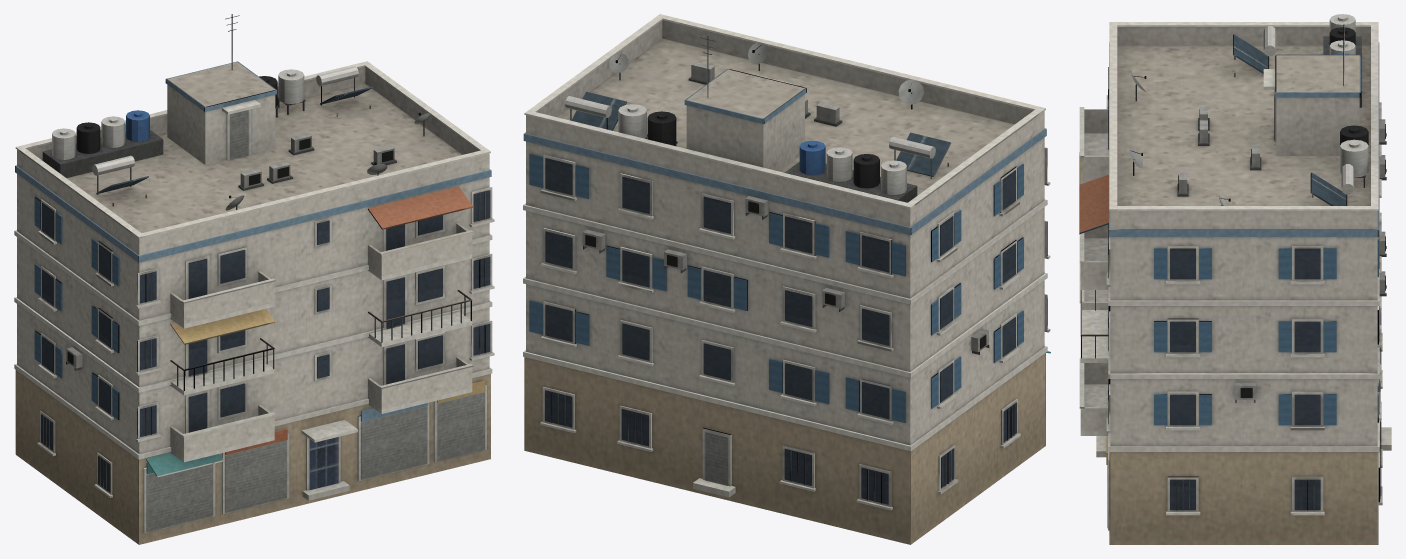
The model's file is civ_apartment.glb.
The picture shows the model from 3 angles, left to right: view 1: azimuth 30°, elevation 25°; view 2: azimuth 150°, elevation 25°; view 3: azimuth 270°, elevation 25°; orthographic projection. The views are drawn at different scales.
Visible parts, largest first — view 1: civ_apartment; view 2: civ_apartment; view 3: civ_apartment.
Boxes of the visible parts, <box> form: civ_apartment: <box>14,14,494,544</box>; civ_apartment: <box>523,14,1050,544</box>; civ_apartment: <box>1079,14,1391,544</box>.
Bounding box in the file's own units: 17.68 × 18.7 × 12.04.
Materials: 2 (2 with a texture image).
